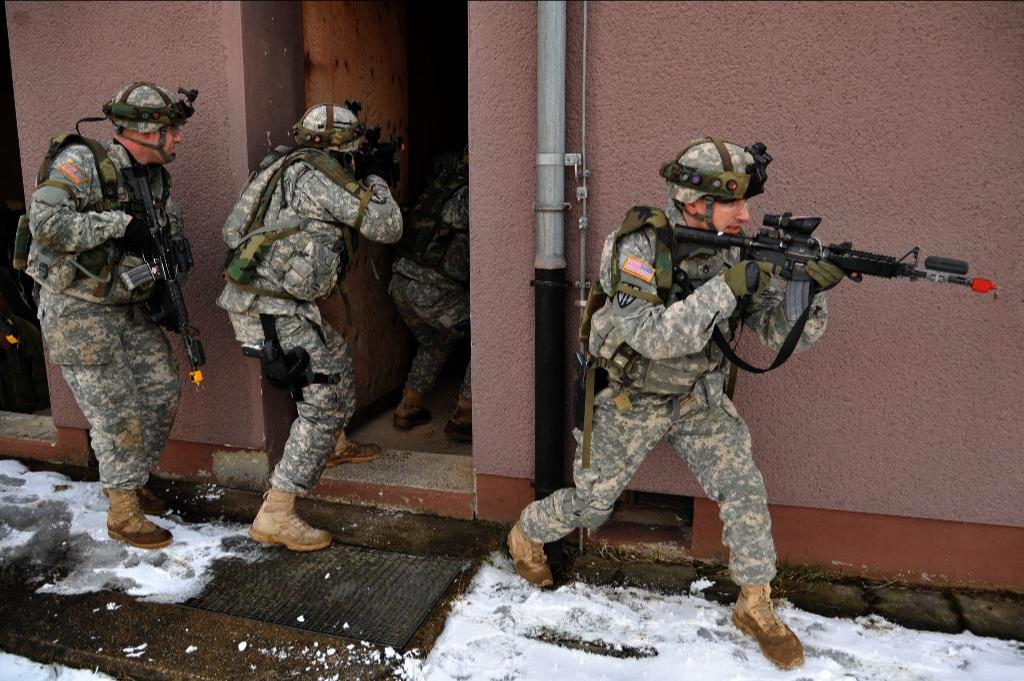gun: (676, 212, 974, 291), (120, 166, 204, 372)
